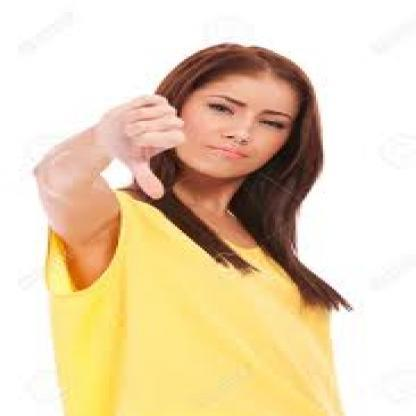thumb_down: (96, 90, 190, 200)
